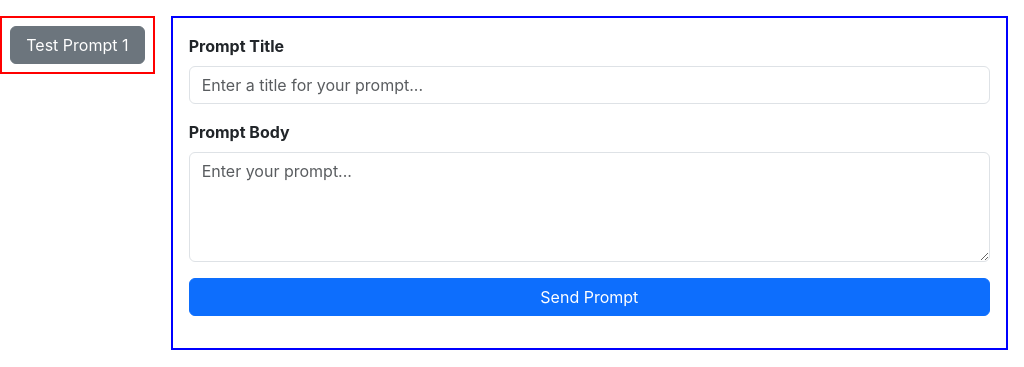
PromptForm › selects prompt button and updates title and prompt fields
Click the button "Test Prompt 1" at (77, 45), box [10, 26, 145, 64]
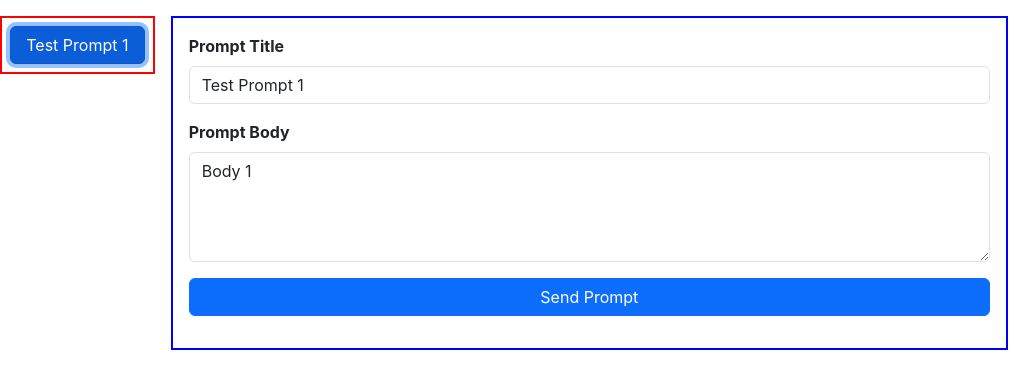
Now the field with placeholder "Enter a title for your prompt..." holds "Test Prompt 1", box [189, 66, 990, 104]
Now the text box with placeholder "Enter your prompt..." holds "Body 1", box [189, 152, 990, 262]
